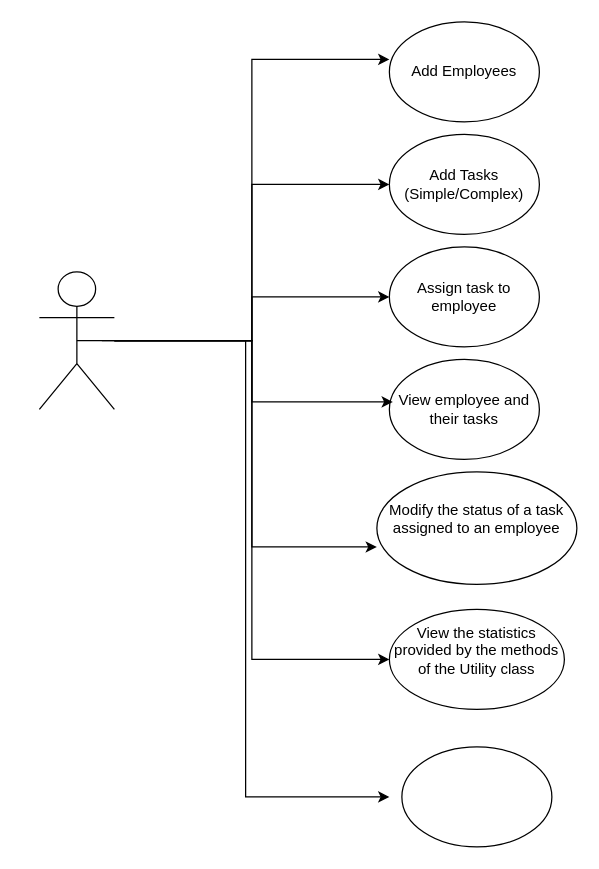
Image size: 599x869. Some labels were removed from this diagram. Here are the shapes that lost their labels. From the top down, the box of each, then its label:
(38, 271, 114, 409): Project Manager
(401, 746, 552, 847): Tie tasks
